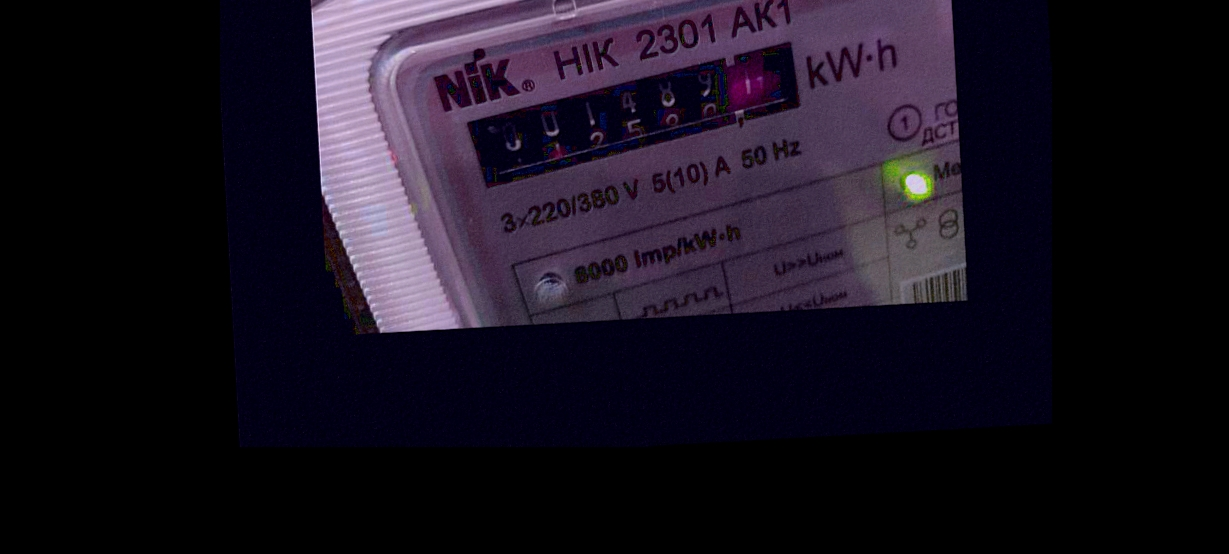0: (536, 102, 564, 139), (499, 118, 525, 154)
1: (737, 59, 758, 98), (580, 96, 601, 128)
4: (617, 84, 641, 116)
8: (656, 74, 679, 111)
9: (695, 65, 717, 99)
screen: (452, 29, 835, 201)
